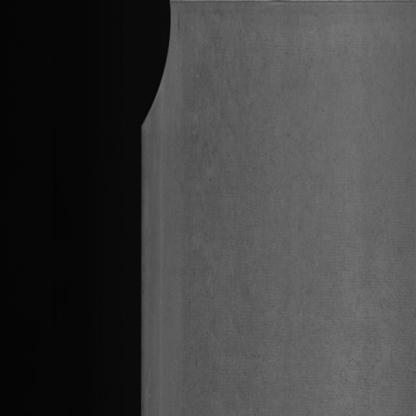crescent_gap: (127, 0, 179, 136)
